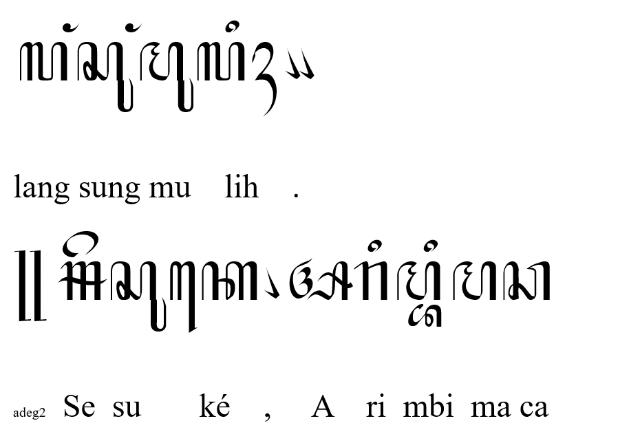A: (289, 257, 353, 301)
S: (58, 261, 108, 301)
_b: (408, 304, 442, 328)
_h1: (252, 41, 276, 116)
adeg2: (15, 250, 47, 322)
c: (504, 261, 550, 301)
e: (63, 230, 99, 258)
e1: (170, 262, 197, 335)
i: (224, 19, 240, 33), (424, 239, 438, 253), (368, 240, 382, 252)
k: (202, 261, 258, 301)
kom: (286, 48, 300, 80), (300, 48, 314, 80), (264, 268, 278, 298)
l: (19, 41, 66, 81), (197, 42, 245, 80)
m: (396, 261, 442, 301), (452, 261, 496, 301)
mu: (140, 42, 194, 112)
ng: (62, 23, 80, 33), (125, 24, 143, 32)
r: (353, 261, 387, 301)
su: (76, 42, 134, 112), (110, 261, 167, 331)
